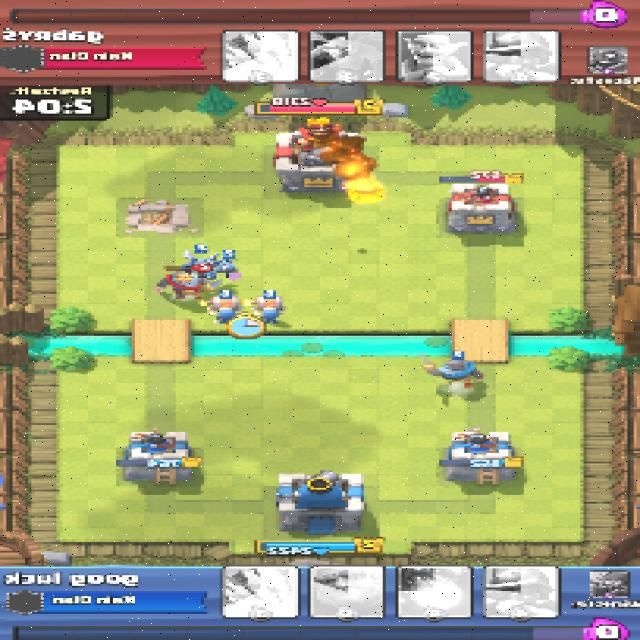Enemy-Fireball: (341, 177, 385, 204)
Enemy-Knight: (152, 272, 219, 301)
Player-Knight: (425, 359, 482, 388)
Player-Minion: (213, 260, 241, 274), (186, 256, 214, 268)
Player-Wallbreaker: (208, 294, 242, 321), (249, 297, 284, 323)
